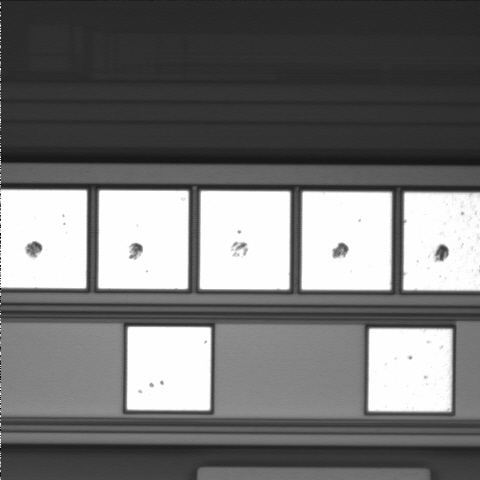pad: (98, 190, 188, 289), (200, 191, 290, 290), (302, 192, 392, 290), (127, 327, 211, 410), (368, 329, 452, 411)
